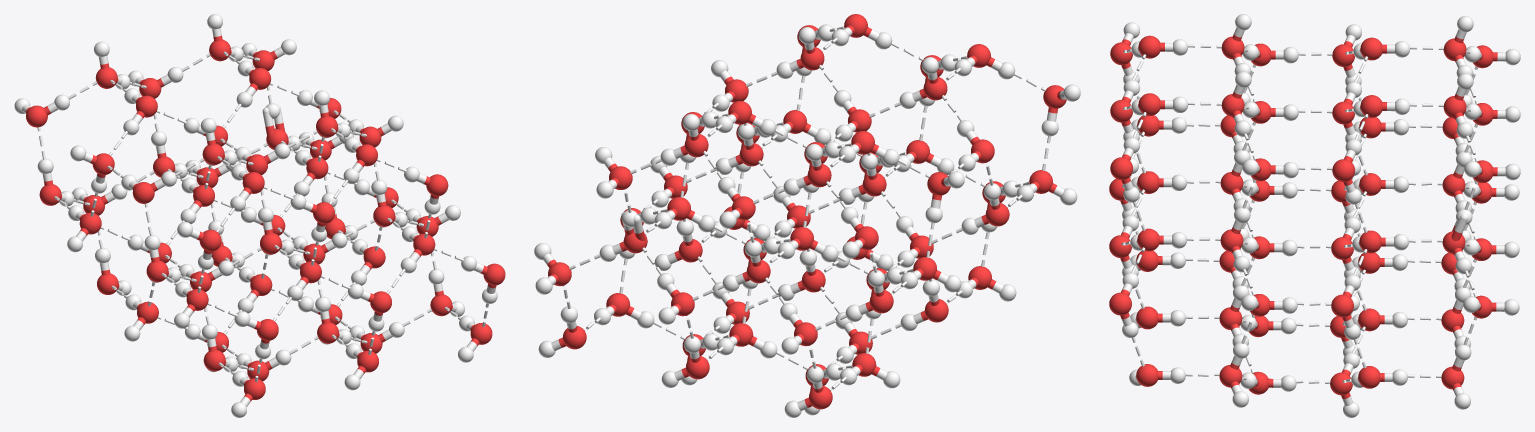
File: structure_of_ice.glb
3 views of the same model, side by side, from view 1: azimuth 30°, elevation 25°; view 2: azimuth 150°, elevation 25°; view 3: azimuth 270°, elevation 25° (orthographic). The views are drawn at different scales.
Visible parts, largest first — view 1: ice2.001_0; view 2: ice2.001_0; view 3: ice2.001_0.
Part boxes in pixels (bbox=[...]): ice2.001_0: bbox=[14, 14, 505, 417]; ice2.001_0: bbox=[534, 14, 1080, 417]; ice2.001_0: bbox=[1109, 14, 1520, 417].
Size of the model in its own units: 13.48 by 11.6 by 13.68.
